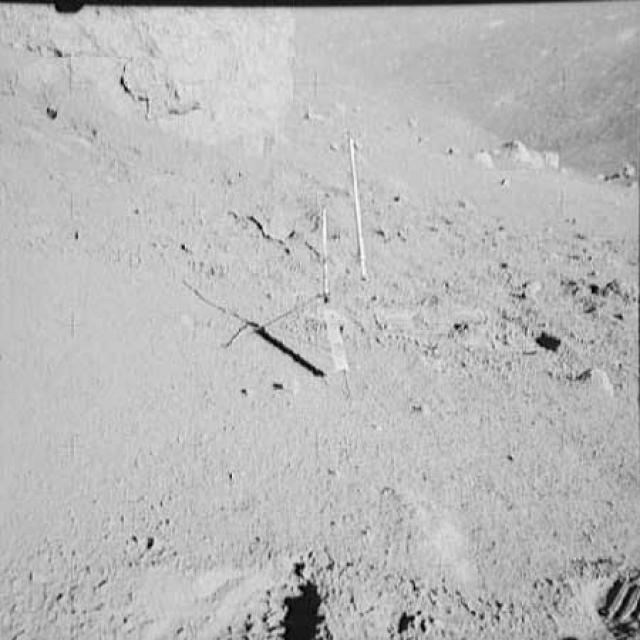artifact: (237, 195, 354, 402), (343, 134, 382, 286)
rock: (0, 1, 303, 151), (461, 129, 561, 176)
